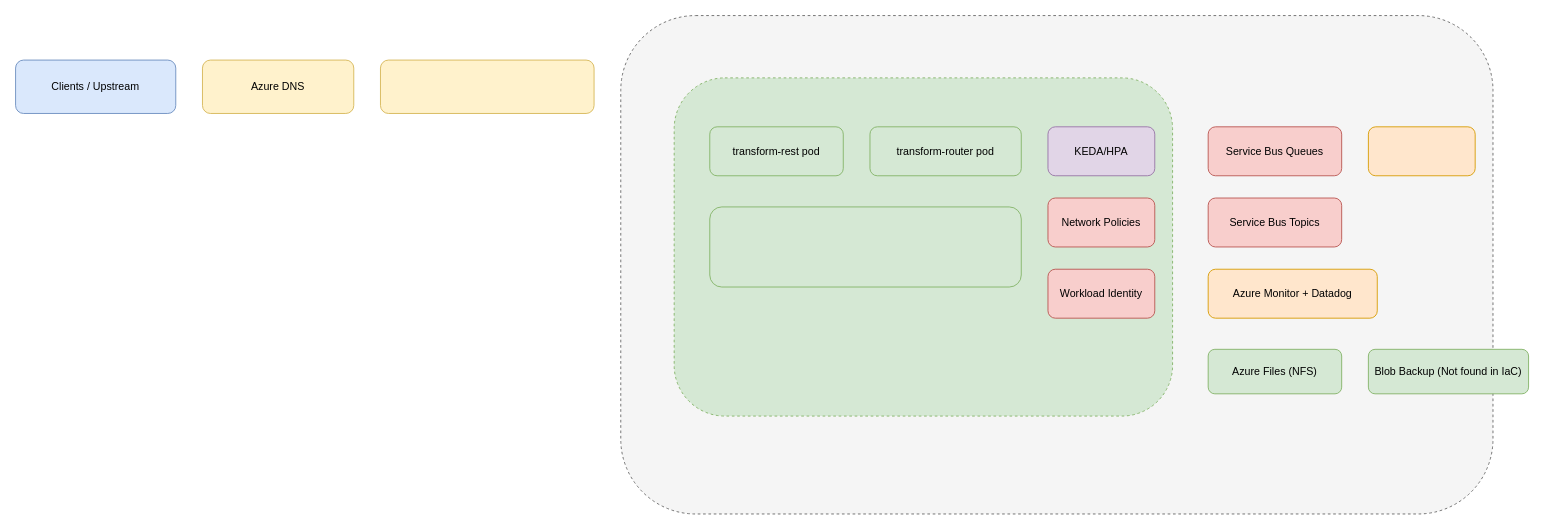
Image size: 1544x530. Some labels were removed from this diagram. The shapes that lost their labels are listed below. From the top down, each one's centre as x and y in pixels, then its label:
At point (487, 86): "Front Door / App Gateway + WAF".
At point (1421, 151): "Key Vault".
At point (865, 246): "Engine Group\n(tika/imagemagick/libreoffice/misc/docfilters/docmerge/aio)".
